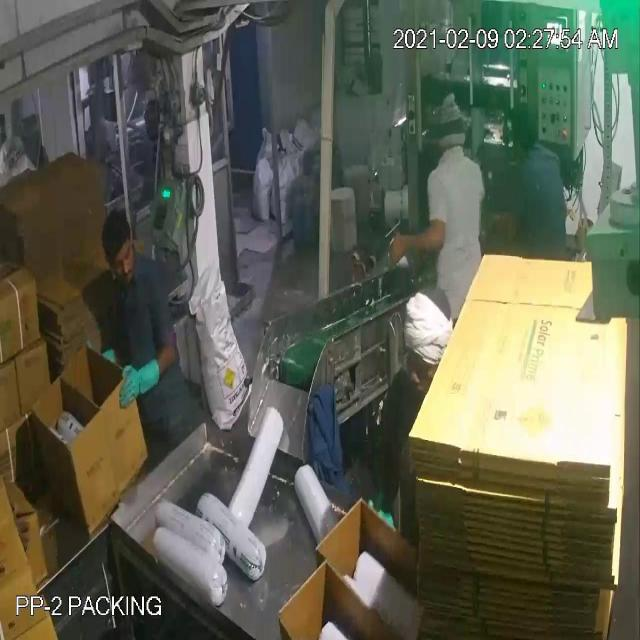Gloves: (59, 63, 417, 384)
